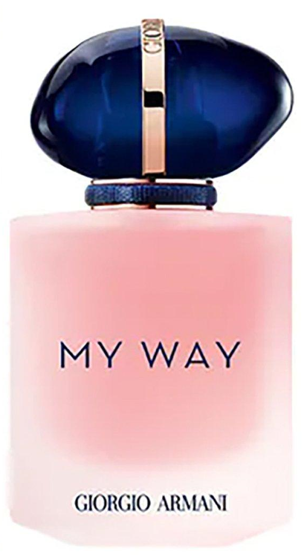armani_my_way_floral: (7, 10, 294, 547)
